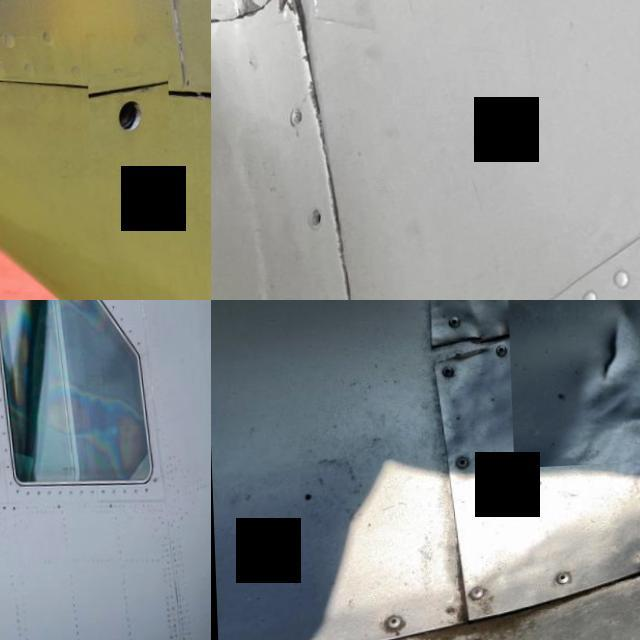Crack: (420, 311, 540, 380), (612, 451, 640, 594)
Dent: (501, 300, 640, 471)
Missing_Fastener: (85, 75, 167, 162), (305, 207, 322, 234)
